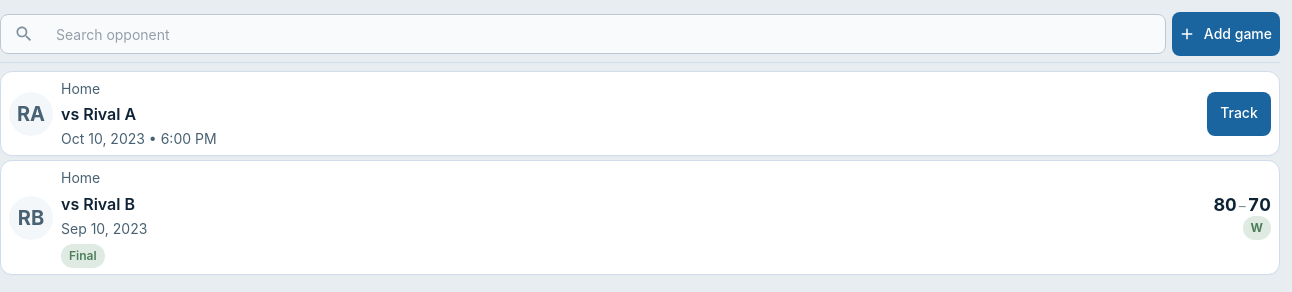
Test case: ScheduleTab › filters games by opponent name
Type "Rival A" into the field with placeholder "Search opponent" at (604, 34), box [42,14,1166,54]
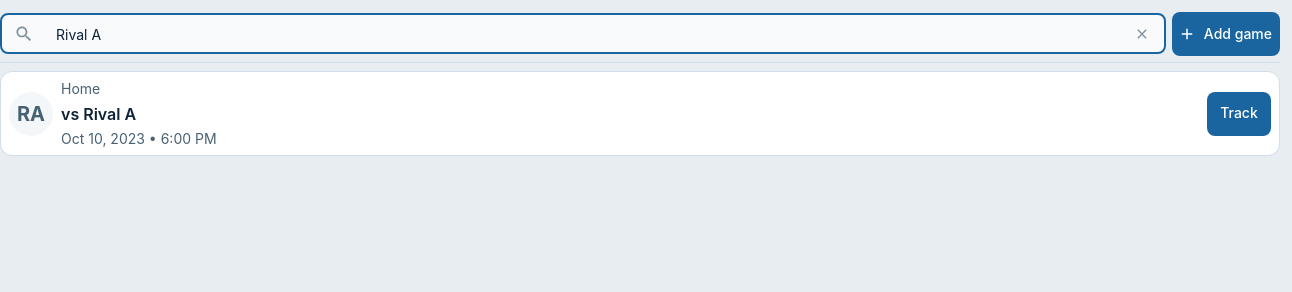
Check: the heading "vs Rival A" is shown, box [61,104,136,124]
Check: the button "vs Rival B" is gone
